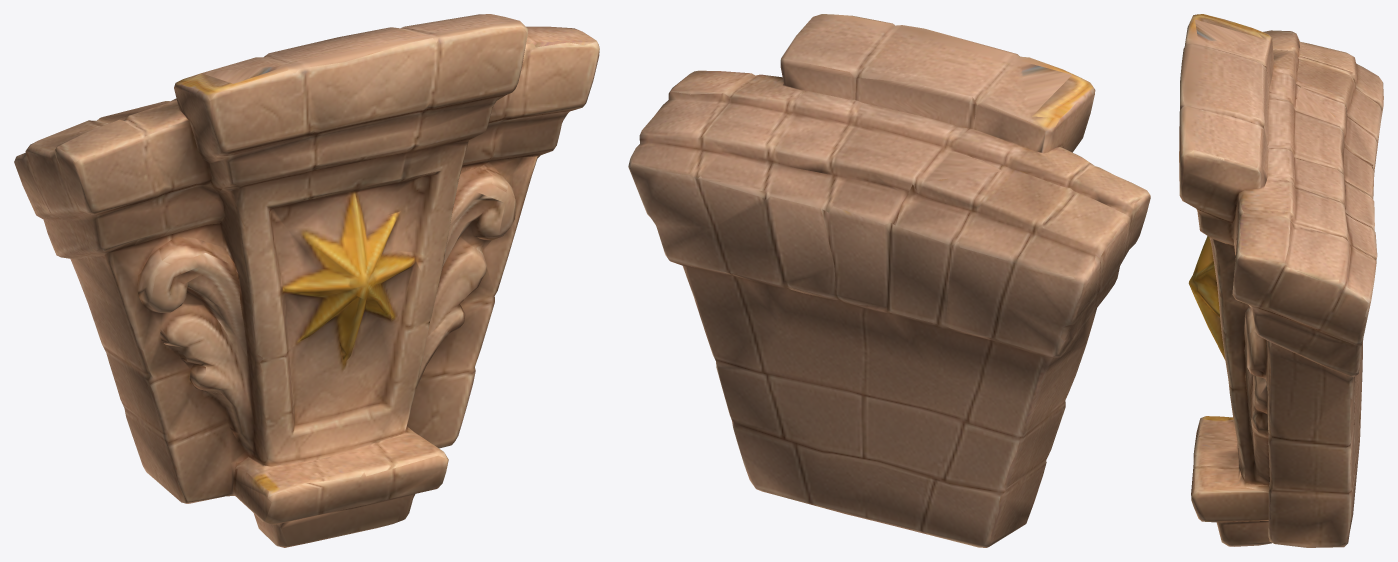
Rendered from keystone.glb.
3 views of the same model, side by side, from view 1: azimuth 30°, elevation 25°; view 2: azimuth 150°, elevation 25°; view 3: azimuth 270°, elevation 25° (orthographic). The views are drawn at different scales.
Visible parts, largest first — view 1: keystone; view 2: keystone; view 3: keystone.
Part boxes in pixels (left/top/right/bottom): keystone: left=14, top=14, right=599, bottom=547; keystone: left=628, top=14, right=1150, bottom=547; keystone: left=1179, top=14, right=1383, bottom=547.
Size of the model in its own units: 0.5003 by 0.4615 by 0.1902.
Materials: 1 (1 with a texture image).
